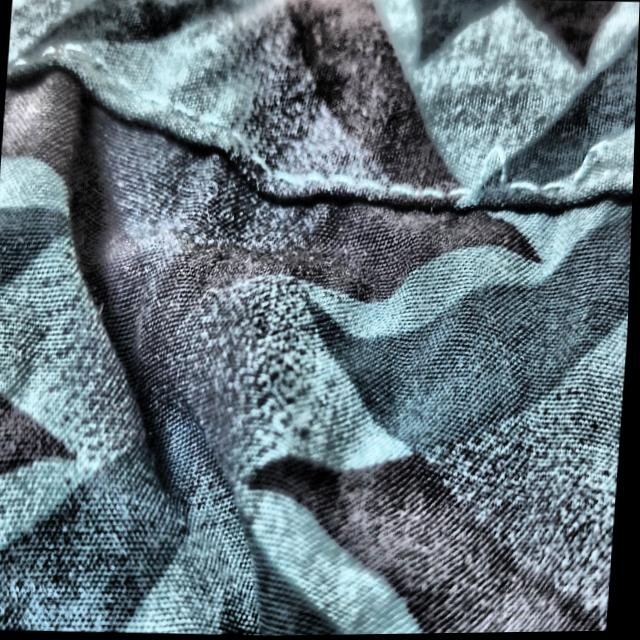Stitch: (436, 108, 633, 244)
